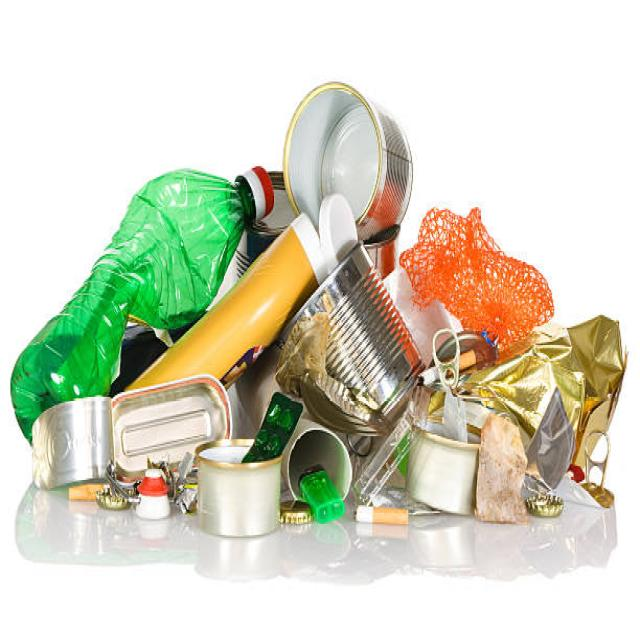metal: (312, 242, 426, 403), (292, 75, 415, 204), (190, 430, 277, 549), (576, 425, 614, 511), (521, 484, 566, 518), (94, 490, 128, 514)
plastic: (28, 138, 273, 397)
